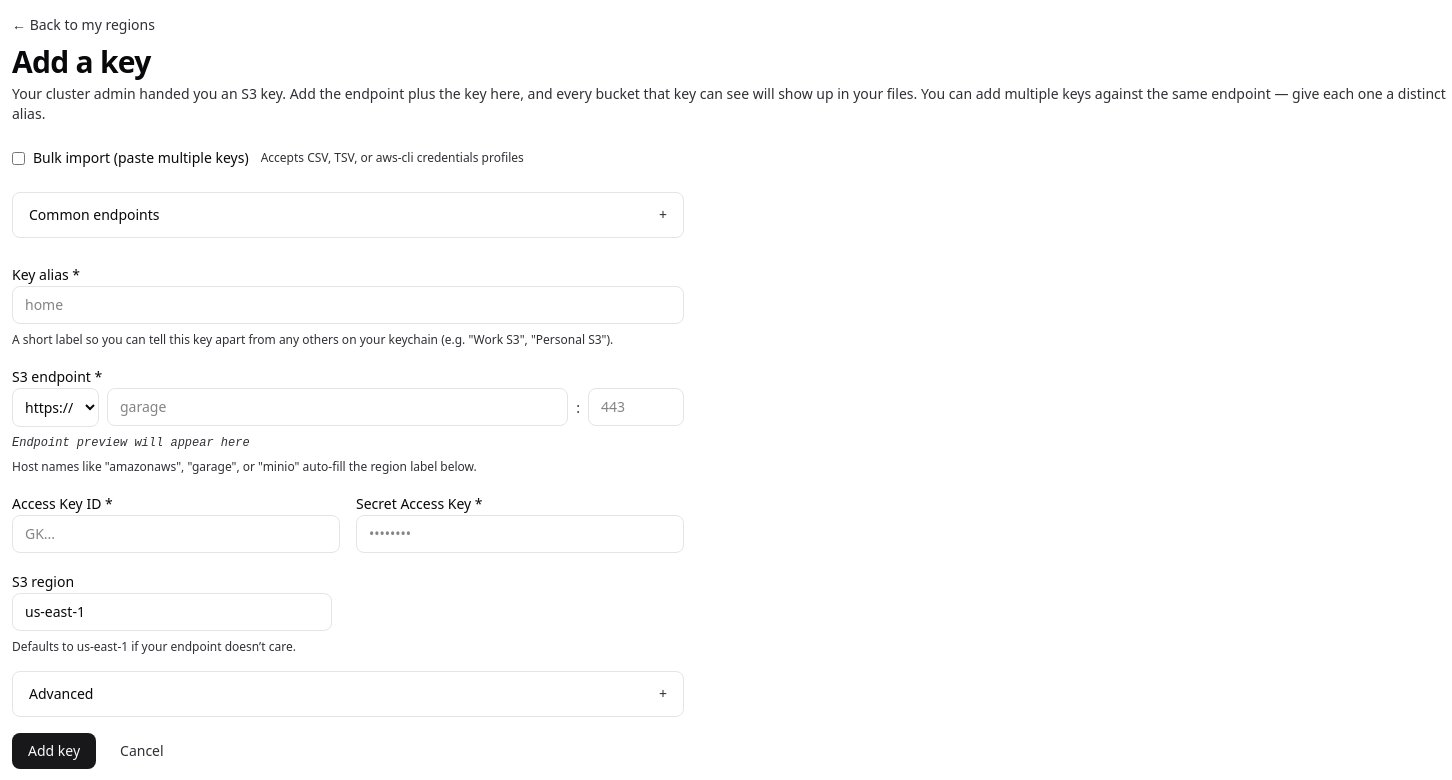
Test: AddKeyPage (/files/keys/new) › auto-checks the virtual-host toggle when AWS is picked from Common endpoints
This screenshot has width=1452, height=780.
Click the button "Common endpoints +".
click(94, 214)  # box [13,193,683,237]
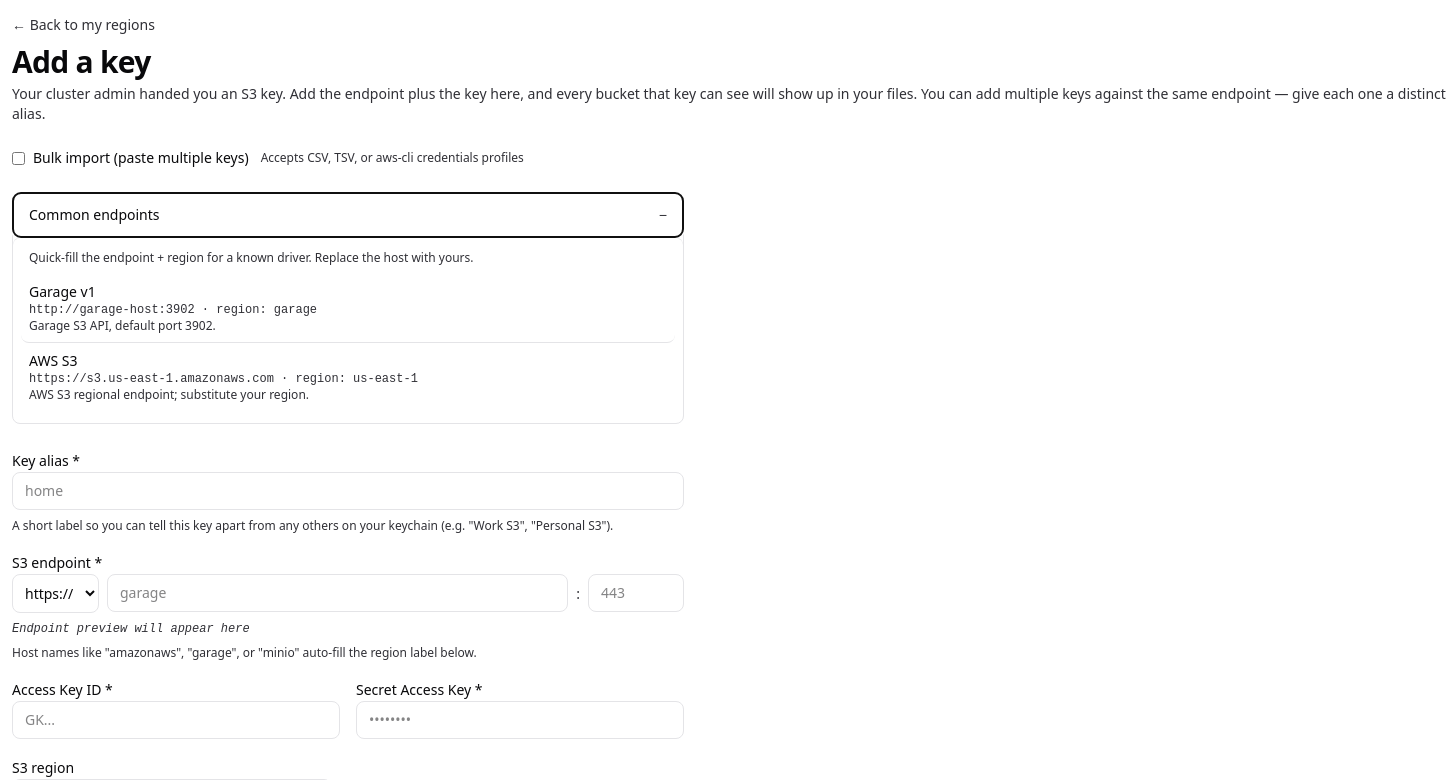
Click the button with test id "use-endpoint-aws-s3".
click(348, 377)  # box [21,343,675,411]
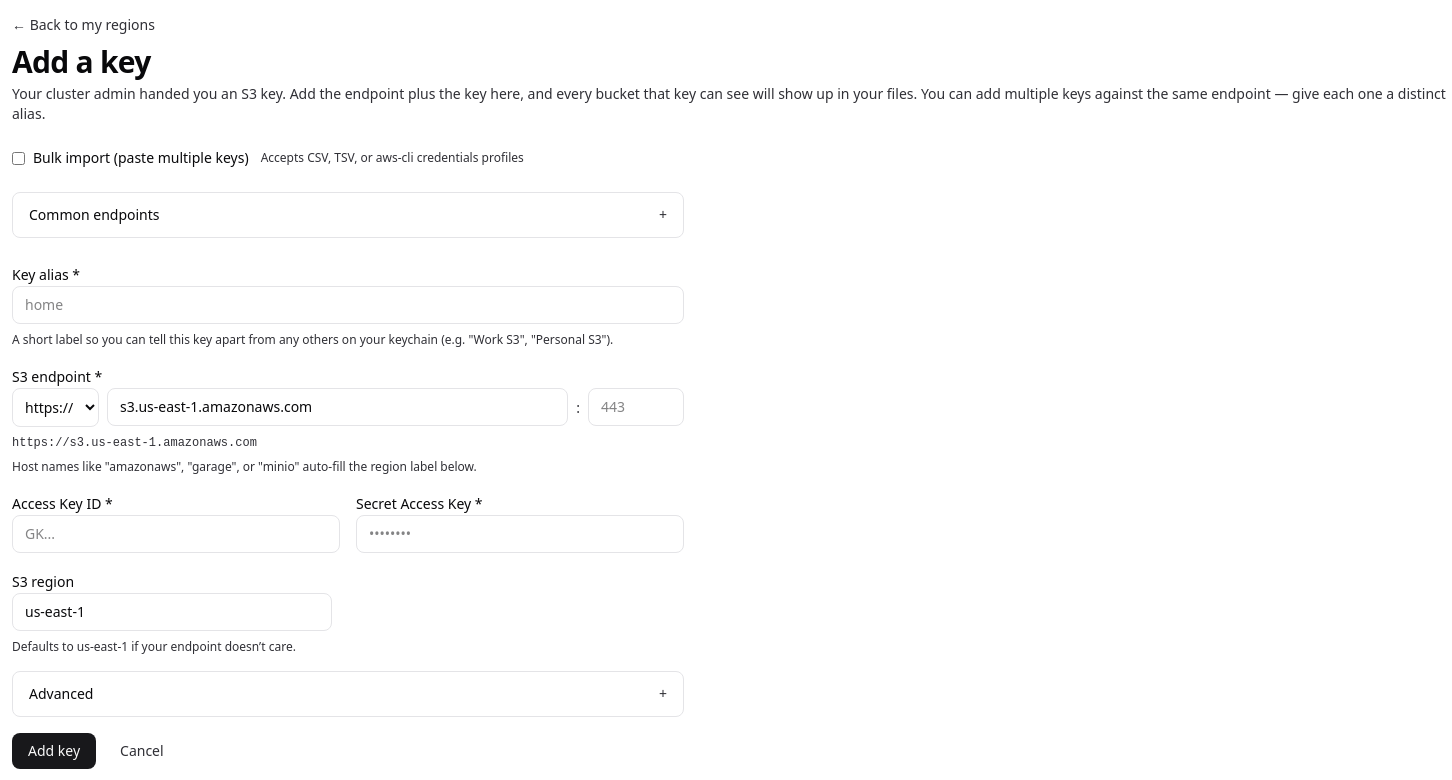
Click the button with test id "toggle-advanced".
click(61, 694)  # box [13,672,683,716]
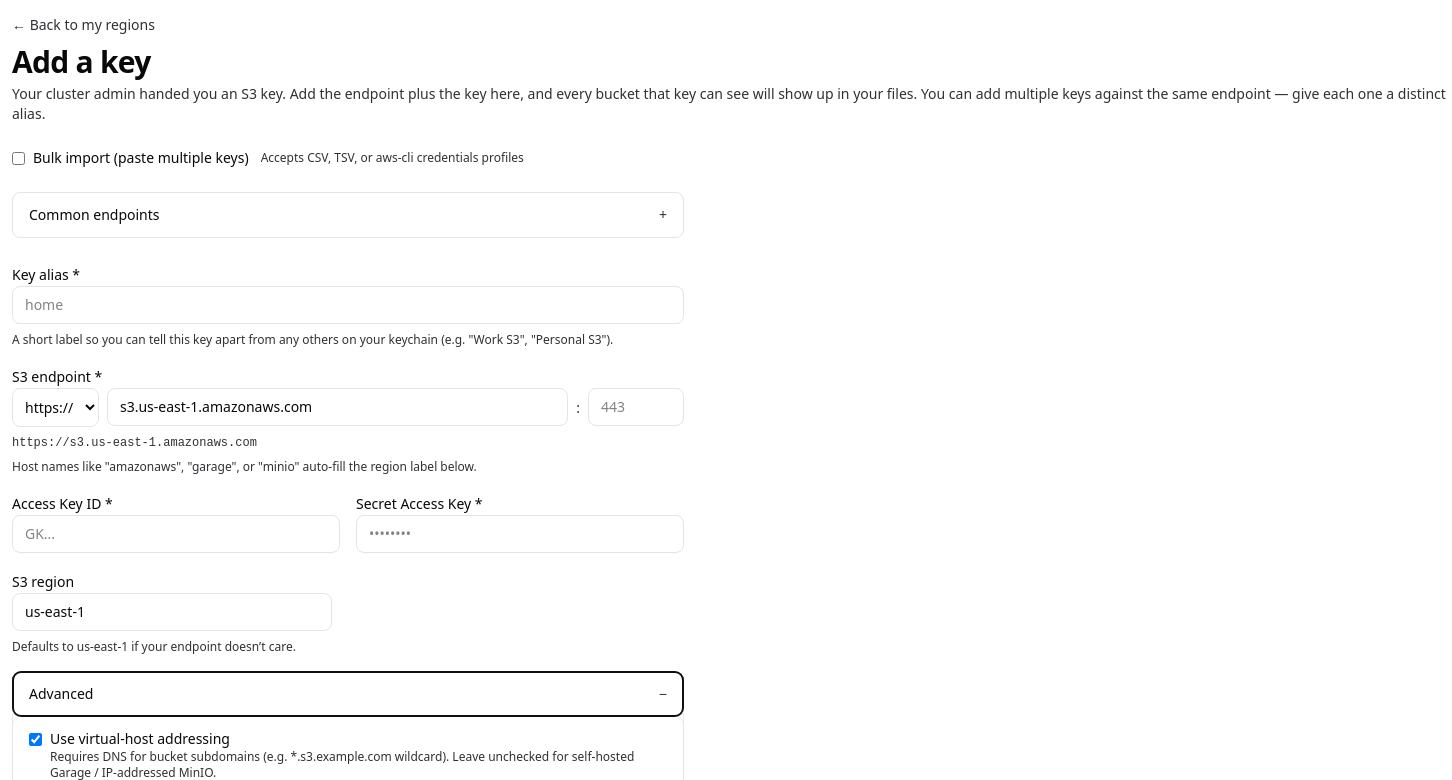
Result: the checkbox with test id "virtual-host-toggle" is checked at [29,733,42,746]
